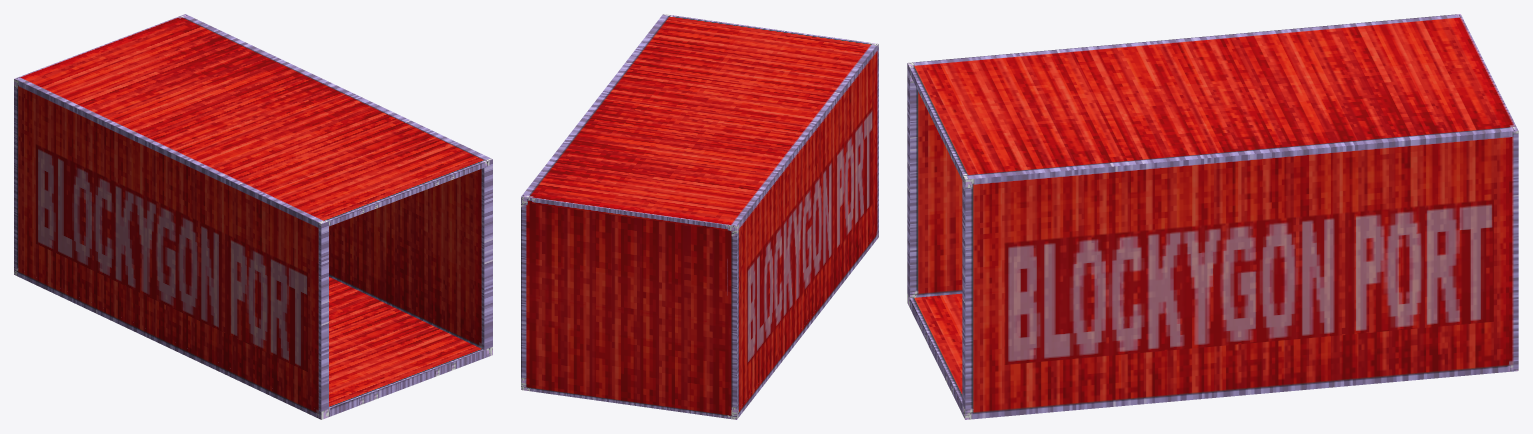
The model's file is BLOCKYGON_RED  CONTAINER(HALF OPEN).fbx.
3 views of the same model, side by side, from view 1: azimuth 30°, elevation 25°; view 2: azimuth 150°, elevation 25°; view 3: azimuth 270°, elevation 25° (orthographic). The views are drawn at different scales.
Parts seen in each view (by area): view 1: BLOCKYGON_RED__CONTAINER_HALF_OPEN_; view 2: BLOCKYGON_RED__CONTAINER_HALF_OPEN_; view 3: BLOCKYGON_RED__CONTAINER_HALF_OPEN_.
Part boxes in pixels (x1,y1,x2,y2): BLOCKYGON_RED__CONTAINER_HALF_OPEN_: [14, 14, 492, 419]; BLOCKYGON_RED__CONTAINER_HALF_OPEN_: [521, 14, 878, 419]; BLOCKYGON_RED__CONTAINER_HALF_OPEN_: [907, 14, 1518, 419].
Bounding box in the file's own units: 302 × 204 × 470.
